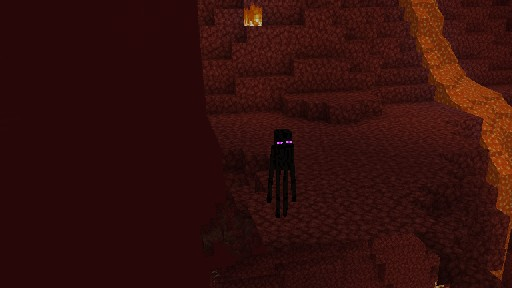enderman: (266, 128, 296, 219)
